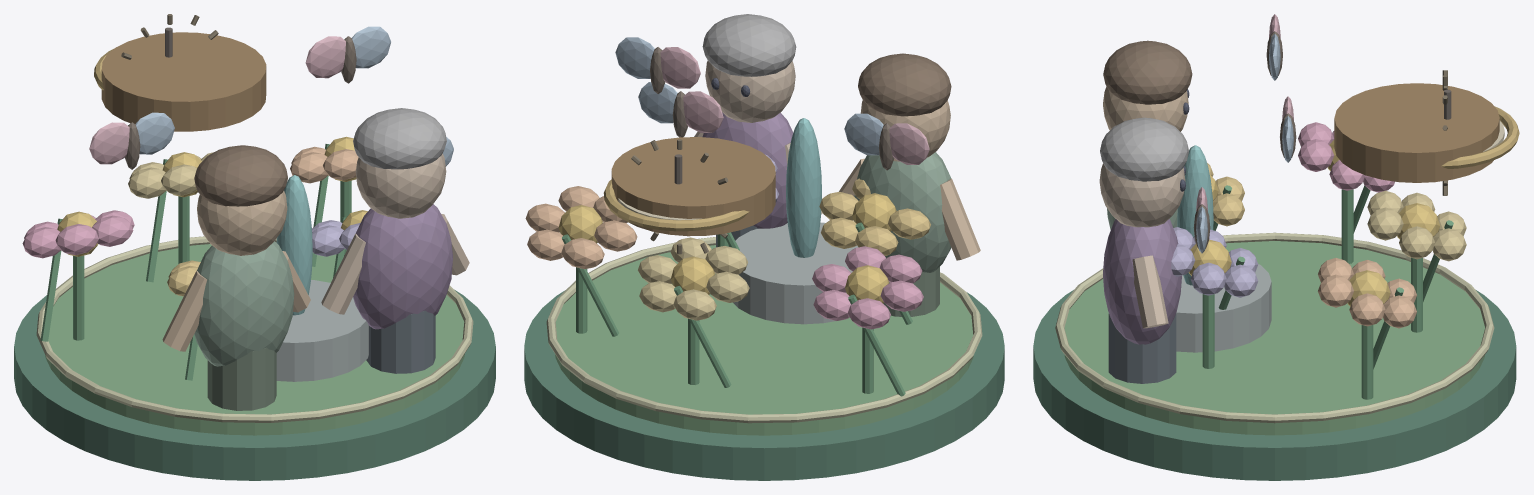
Rendered from the-clockmakers-garden-scene-3.glb.
The picture shows the model from 3 angles, left to right: view 1: azimuth 30°, elevation 25°; view 2: azimuth 150°, elevation 25°; view 3: azimuth 270°, elevation 25°; orthographic projection.
Visible parts, largest first — view 1: shore or habitat, deep water plinth, garden clock moving clock body, Ivo coat, Master Orin coat, outer waterline, flowing fountain bowl, Ivo hair, Master Orin hair, Ivo face, Master Orin face, Ivo trousers (+27 smaller); view 2: shore or habitat, deep water plinth, garden clock moving clock body, flowing fountain bowl, outer waterline, Ivo coat, Ivo hair, Master Orin hair, fountain water plume, Master Orin face, Master Orin coat, garden clock moving clock rim (+40 smaller); view 3: shore or habitat, deep water plinth, garden clock moving clock body, outer waterline, Master Orin coat, flowing fountain bowl, Ivo hair, Master Orin hair, Master Orin face, Master Orin trousers, fountain water plume, Ivo face (+24 smaller).
Part boxes in pixels (x1=…): shore or habitat: x1=45, y1=244, x2=464, y2=435; deep water plinth: x1=14, y1=289, x2=495, y2=480; garden clock moving clock body: x1=101, y1=32, x2=266, y2=131; Ivo coat: x1=194, y1=241, x2=294, y2=366; Master Orin coat: x1=353, y1=204, x2=452, y2=329; outer waterline: x1=36, y1=236, x2=473, y2=422; flowing fountain bowl: x1=276, y1=280, x2=368, y2=381; Ivo hair: x1=194, y1=145, x2=287, y2=206; Master Orin hair: x1=353, y1=108, x2=446, y2=169; Ivo face: x1=197, y1=190, x2=287, y2=255; Master Orin face: x1=355, y1=153, x2=446, y2=218; Ivo trousers: x1=207, y1=347, x2=276, y2=410; shore or habitat: x1=555, y1=245, x2=973, y2=435; deep water plinth: x1=524, y1=290, x2=1004, y2=480; garden clock moving clock body: x1=611, y1=137, x2=775, y2=236; flowing fountain bowl: x1=733, y1=222, x2=858, y2=324; outer waterline: x1=546, y1=237, x2=982, y2=423; Ivo coat: x1=854, y1=152, x2=951, y2=272; Ivo hair: x1=858, y1=53, x2=951, y2=116; Master Orin hair: x1=702, y1=14, x2=796, y2=76; fountain water plume: x1=786, y1=118, x2=821, y2=257; Master Orin face: x1=705, y1=61, x2=795, y2=122; Master Orin coat: x1=702, y1=112, x2=793, y2=228; garden clock moving clock rim: x1=603, y1=179, x2=749, y2=231; shore or habitat: x1=1064, y1=241, x2=1485, y2=435; deep water plinth: x1=1033, y1=290, x2=1516, y2=480; garden clock moving clock body: x1=1334, y1=83, x2=1499, y2=182; outer waterline: x1=1055, y1=232, x2=1494, y2=423; Master Orin coat: x1=1103, y1=219, x2=1181, y2=344; flowing fountain bowl: x1=1176, y1=264, x2=1271, y2=352; Ivo hair: x1=1103, y1=40, x2=1192, y2=104; Master Orin hair: x1=1100, y1=117, x2=1188, y2=181; Master Orin face: x1=1099, y1=163, x2=1185, y2=227; Master Orin trousers: x1=1108, y1=313, x2=1176, y2=383; fountain water plume: x1=1177, y1=145, x2=1213, y2=285; Ivo face: x1=1103, y1=86, x2=1188, y2=131.
Size of the model in its own units: 0.7592 by 0.5538 by 0.7644.
